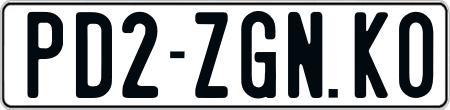0: (396, 10, 431, 100)
2: (119, 10, 157, 97)
D: (76, 12, 115, 104)
G: (239, 11, 274, 104)
K: (353, 9, 390, 95)
N: (288, 11, 322, 100)
P: (28, 10, 65, 98)
Z: (192, 10, 226, 99)
